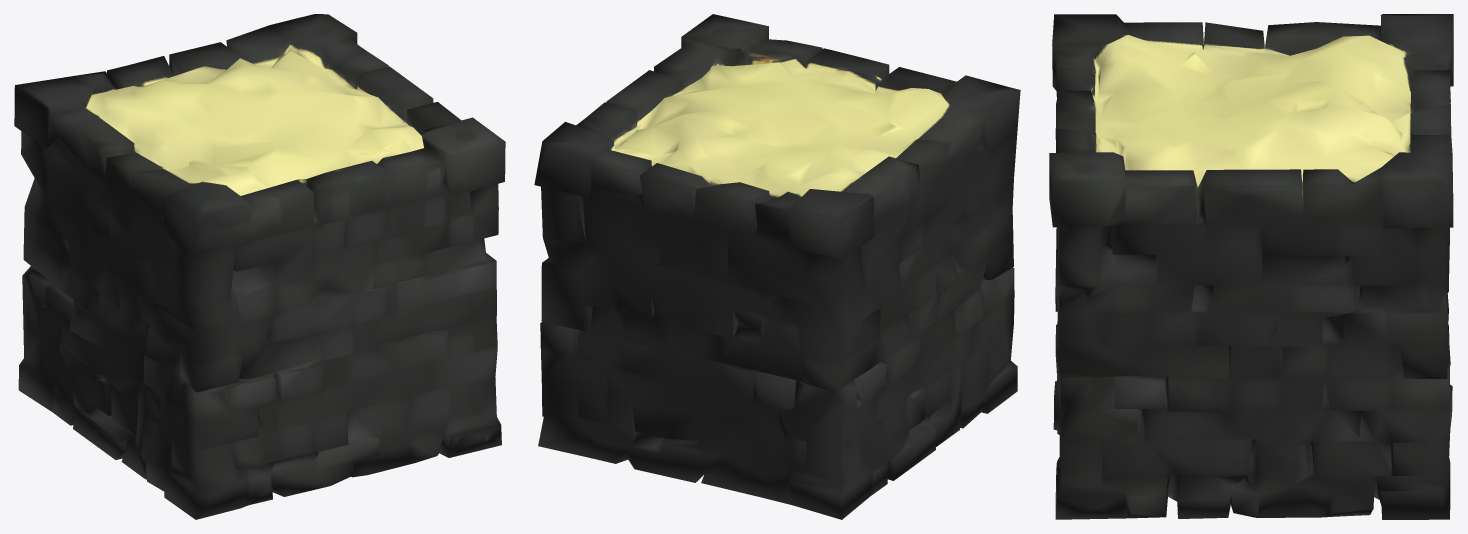
The model's file is Wall_C2_Base.glb.
3 renders of one model, left to right at view 1: azimuth 30°, elevation 25°; view 2: azimuth 150°, elevation 25°; view 3: azimuth 270°, elevation 25°, orthographic. The views are drawn at different scales.
Visible parts, largest first — view 1: tripo_node_c23e20f5-817b-4f8a-b4ee-32e802c242ae; view 2: tripo_node_c23e20f5-817b-4f8a-b4ee-32e802c242ae; view 3: tripo_node_c23e20f5-817b-4f8a-b4ee-32e802c242ae.
Boxes of the visible parts, x1,y1,x2,y2 form: tripo_node_c23e20f5-817b-4f8a-b4ee-32e802c242ae: [14, 14, 505, 519]; tripo_node_c23e20f5-817b-4f8a-b4ee-32e802c242ae: [534, 14, 1020, 519]; tripo_node_c23e20f5-817b-4f8a-b4ee-32e802c242ae: [1049, 14, 1453, 519].
Size of the model in its own units: 0.9899 by 0.9443 by 1.
Materials: 1 (1 with a texture image).
